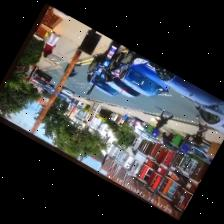person: (192, 114, 208, 143), (44, 32, 60, 57), (156, 109, 174, 128), (68, 63, 82, 77), (120, 113, 128, 124)
